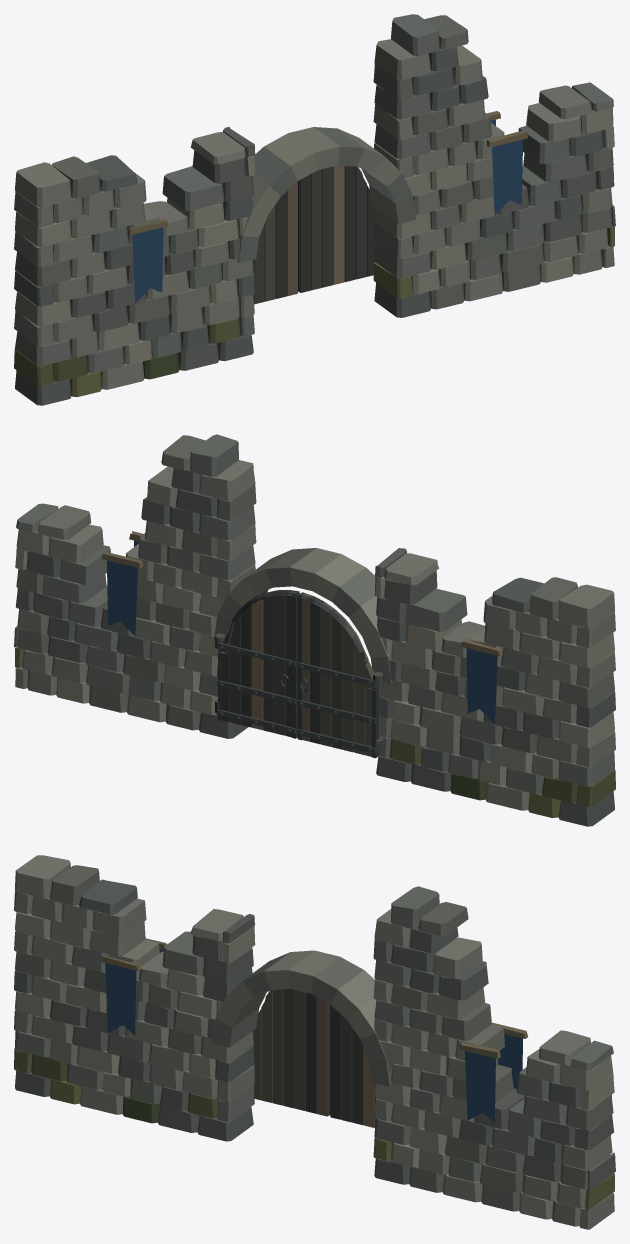
The model's file is area4-w2-wall-gate.glb.
3 renders of one model, top to bottom at view 1: azimuth 30°, elevation 25°; view 2: azimuth 150°, elevation 25°; view 3: azimuth 330°, elevation 25°, orthographic.
Visible parts, largest first — view 1: FallenKeep_BreachedGatehouse, W2_Right_Timber, W2_Left_Timber; view 2: FallenKeep_BreachedGatehouse, W2_Left_Timber, W2_Right_Timber, W2_Left_Iron, W2_Right_Iron; view 3: FallenKeep_BreachedGatehouse, W2_Left_Timber, W2_Right_Timber.
Part boxes in pixels (left/top/right/bottom): FallenKeep_BreachedGatehouse: left=14, top=14, right=615, bottom=405; W2_Right_Timber: left=299, top=165, right=375, bottom=292; W2_Left_Timber: left=252, top=181, right=297, bottom=304; FallenKeep_BreachedGatehouse: left=14, top=434, right=615, bottom=826; W2_Left_Timber: left=300, top=592, right=379, bottom=756; W2_Right_Timber: left=219, top=590, right=299, bottom=737; W2_Left_Iron: left=297, top=593, right=383, bottom=758; W2_Right_Iron: left=215, top=591, right=298, bottom=738; FallenKeep_BreachedGatehouse: left=14, top=855, right=615, bottom=1229; W2_Left_Timber: left=253, top=989, right=328, bottom=1116; W2_Right_Timber: left=330, top=1005, right=375, bottom=1127.
Size of the model in its own units: 14.01 by 6.43 by 1.55.
